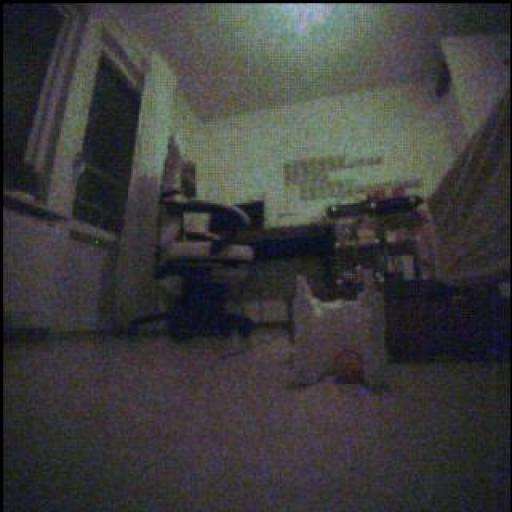basket: (334, 350, 362, 388)
